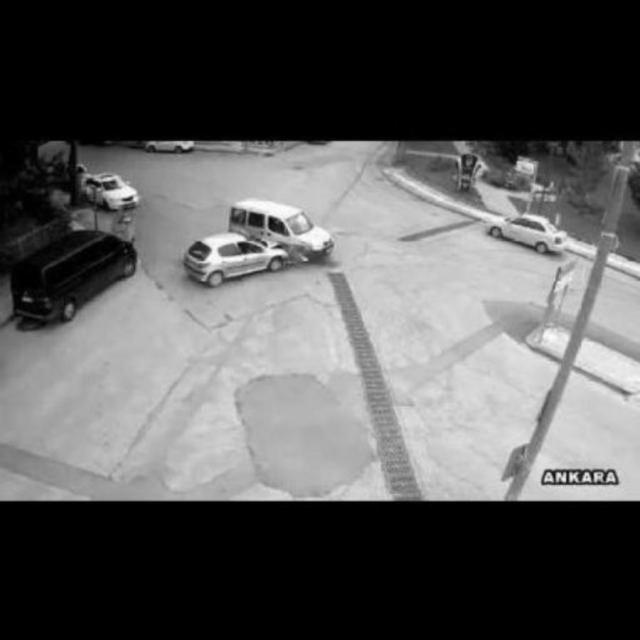accident: (189, 202, 333, 280)
vehicle: (15, 226, 139, 327), (489, 212, 569, 258), (85, 174, 139, 212)
